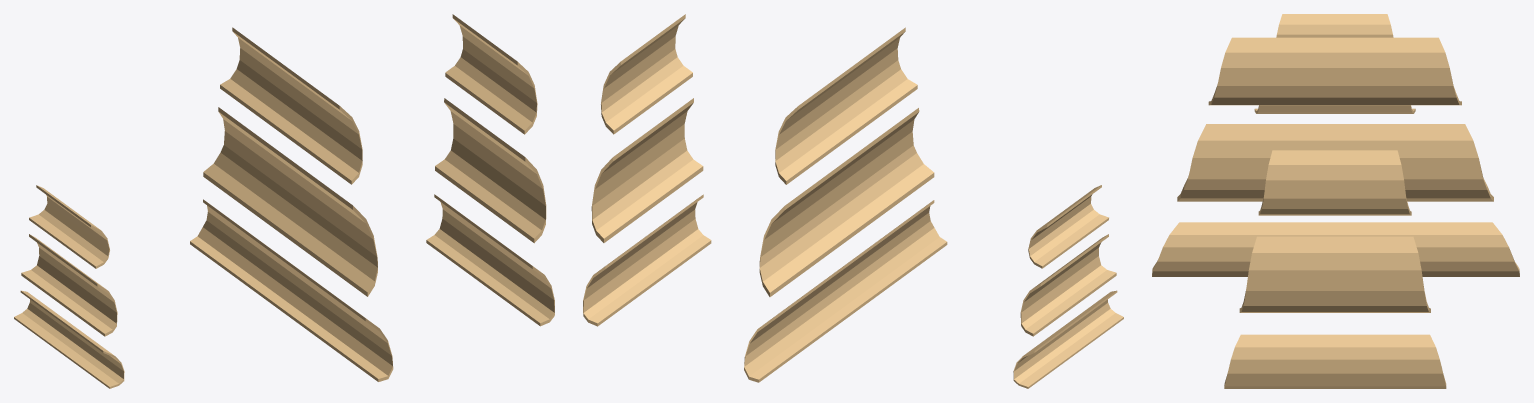
The model's file is Sails3Q.fbx.
3 renders of one model, left to right at view 1: azimuth 30°, elevation 25°; view 2: azimuth 150°, elevation 25°; view 3: azimuth 270°, elevation 25°, orthographic. The views are drawn at different scales.
Visible parts, largest first — view 1: Sail 3Q Mid 2, Sail 3Q Mid 3, Sail 3Q Mid 1, Sail 3Q Front 2, Sail 3Q Front 3, Sail 3Q Front 1, Sail 3Q Back 2, Sail 3Q Back 3, Sail 3Q Back 1; view 2: Sail 3Q Mid 2, Sail 3Q Mid 3, Sail 3Q Mid 1, Sail 3Q Front 2, Sail 3Q Front 3, Sail 3Q Front 1, Sail 3Q Back 2, Sail 3Q Back 3, Sail 3Q Back 1; view 3: Sail 3Q Mid 1, Sail 3Q Mid 2, Sail 3Q Front 2, Sail 3Q Mid 3, Sail 3Q Front 3, Sail 3Q Front 1, Sail 3Q Back 1, Sail 3Q Back 2.
Boxes of the visible parts, x1,y1,x2,y2 form: Sail 3Q Mid 2: (203,107,377,296); Sail 3Q Mid 3: (190,199,393,381); Sail 3Q Mid 1: (220,27,362,184); Sail 3Q Front 2: (435,98,546,243); Sail 3Q Front 3: (426,194,554,326); Sail 3Q Front 1: (445,14,537,134); Sail 3Q Back 2: (21,234,117,336); Sail 3Q Back 3: (14,290,124,388); Sail 3Q Back 1: (29,185,109,268); Sail 3Q Mid 2: (759,108,934,296); Sail 3Q Mid 3: (744,200,947,382); Sail 3Q Mid 1: (775,27,917,184); Sail 3Q Front 2: (591,98,703,242); Sail 3Q Front 3: (583,194,711,326); Sail 3Q Front 1: (601,14,692,134); Sail 3Q Back 2: (1020,234,1116,336); Sail 3Q Back 3: (1013,290,1123,388); Sail 3Q Back 1: (1028,185,1108,268); Sail 3Q Mid 1: (1208,37,1461,105); Sail 3Q Mid 2: (1177,124,1493,201); Sail 3Q Front 2: (1239,236,1430,312); Sail 3Q Mid 3: (1152,222,1519,276); Sail 3Q Front 3: (1224,334,1446,388); Sail 3Q Front 1: (1258,150,1411,215); Sail 3Q Back 1: (1276,14,1393,37); Sail 3Q Back 2: (1254,105,1415,113).
Bounding box in the file's own units: 8166 × 10830 × 6288.
